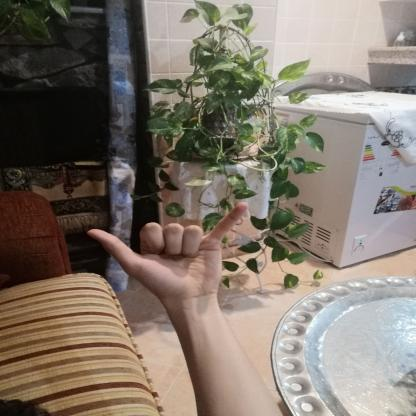YA: (76, 194, 257, 311)
